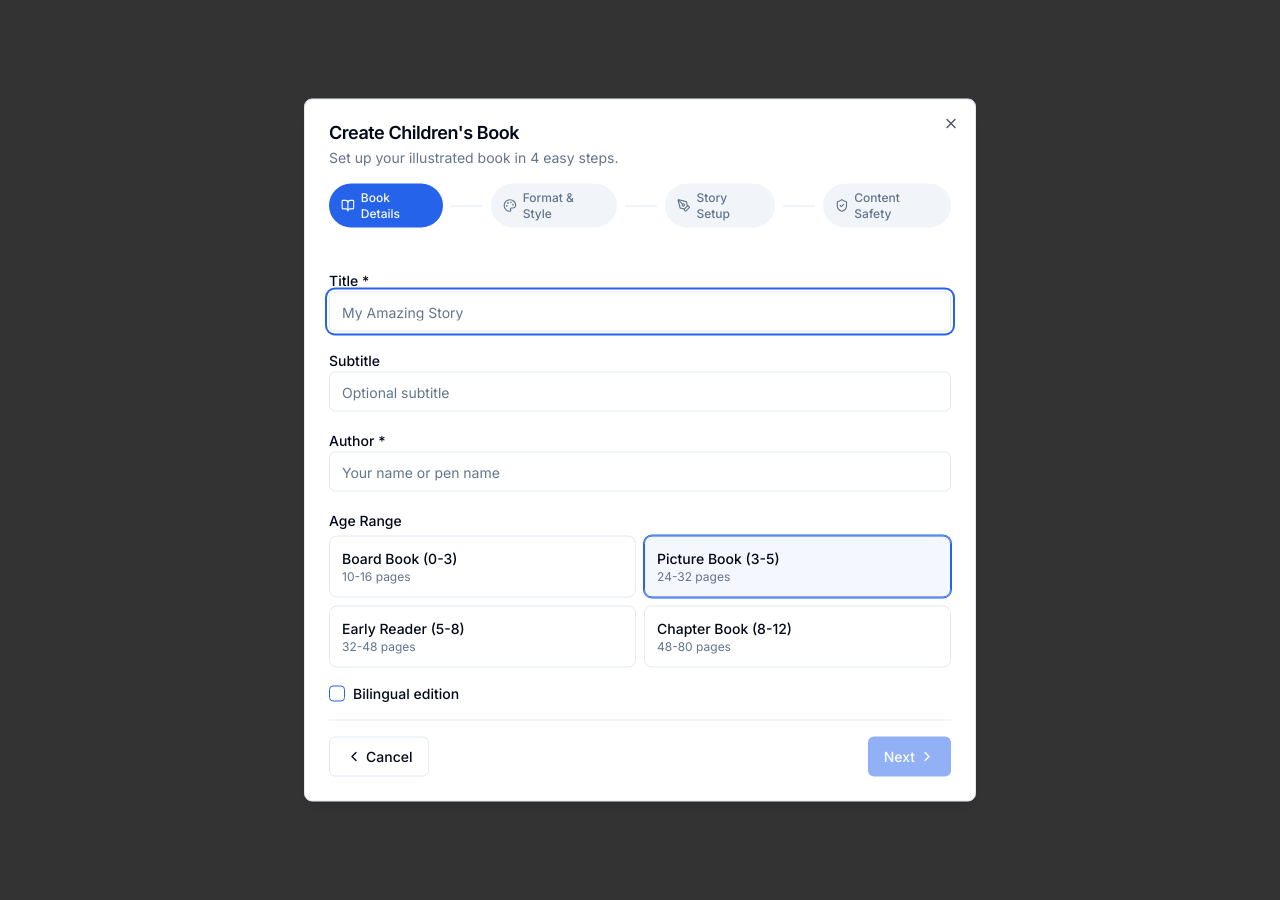
Test: CreateChildrensBookWizard › enables Next when title and author are filled
Type "Test Book" into the field with placeholder "My Amazing Story" at (640, 312), box [329,292,951,332]
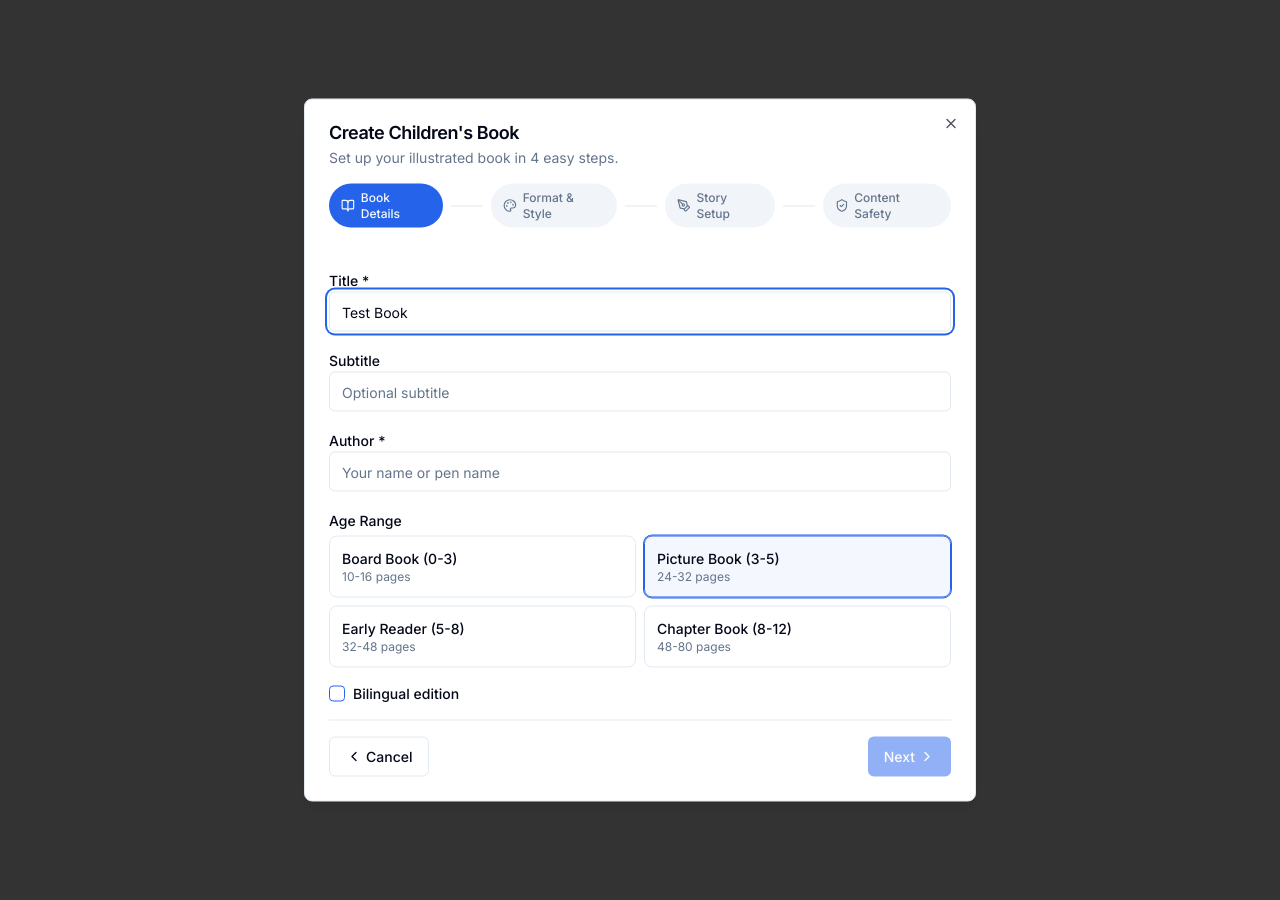
Type "Author Name" into the field with placeholder "Your name or pen name" at (640, 472), box [329,452,951,492]
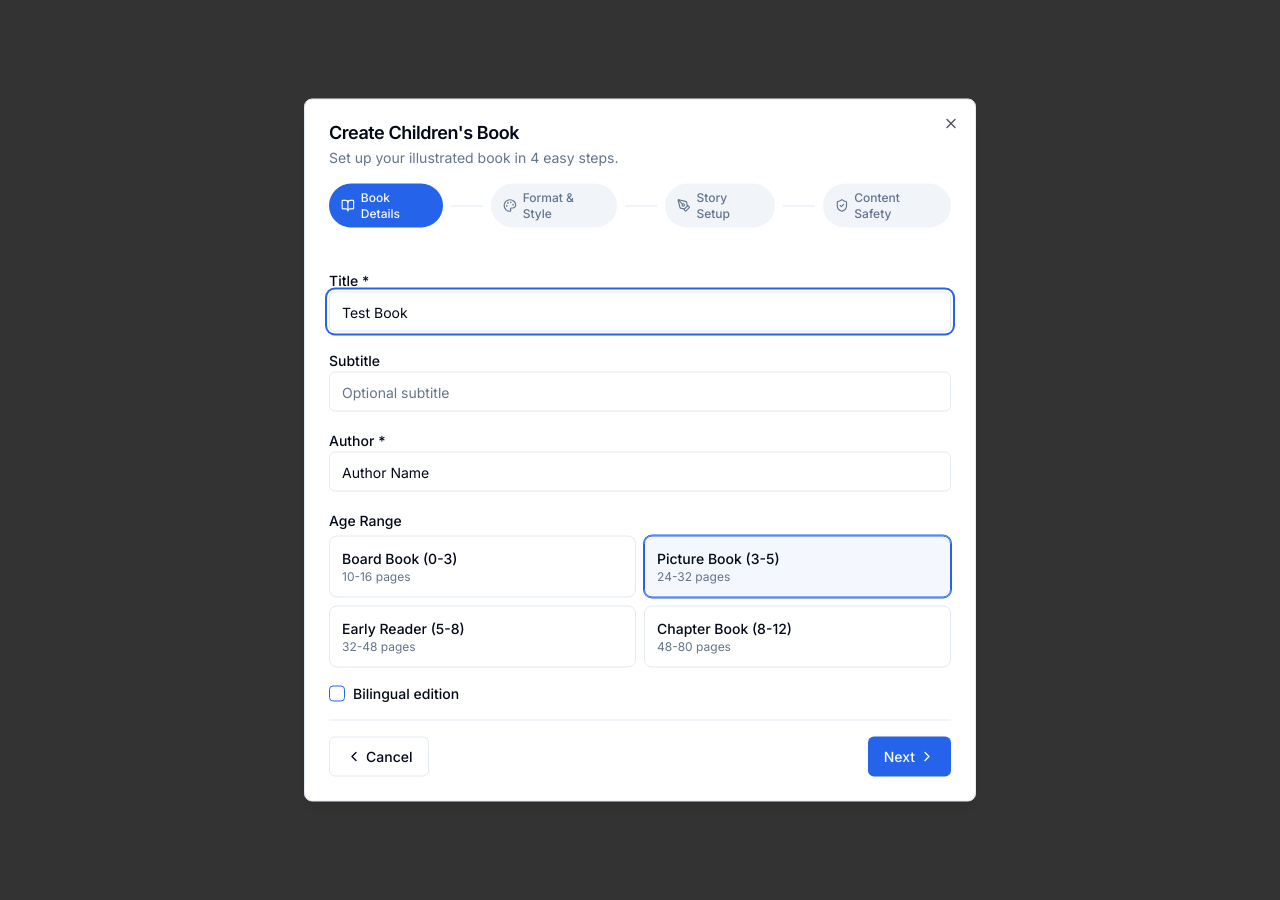
expect the button "Next" is enabled: met, box [868,736,951,776]
